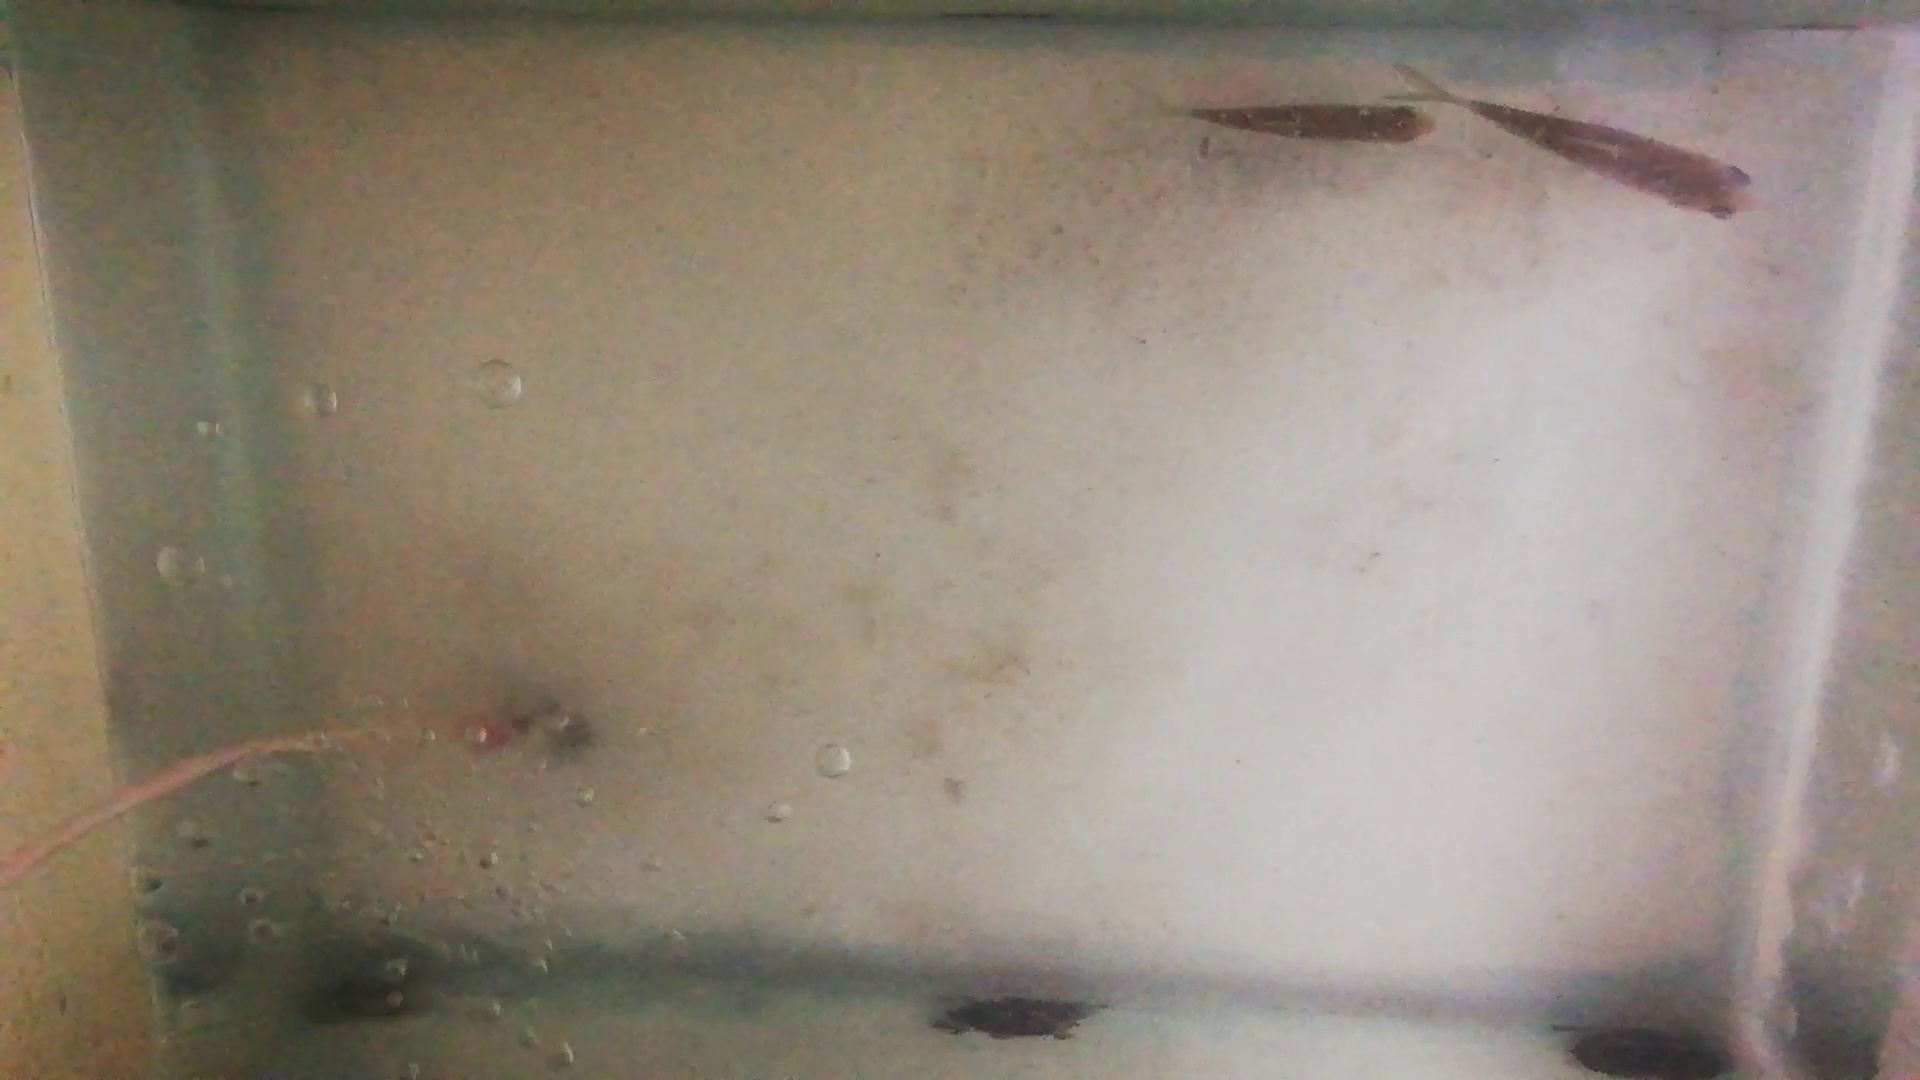fish: (1464, 99, 1758, 222), (1187, 99, 1433, 148)
